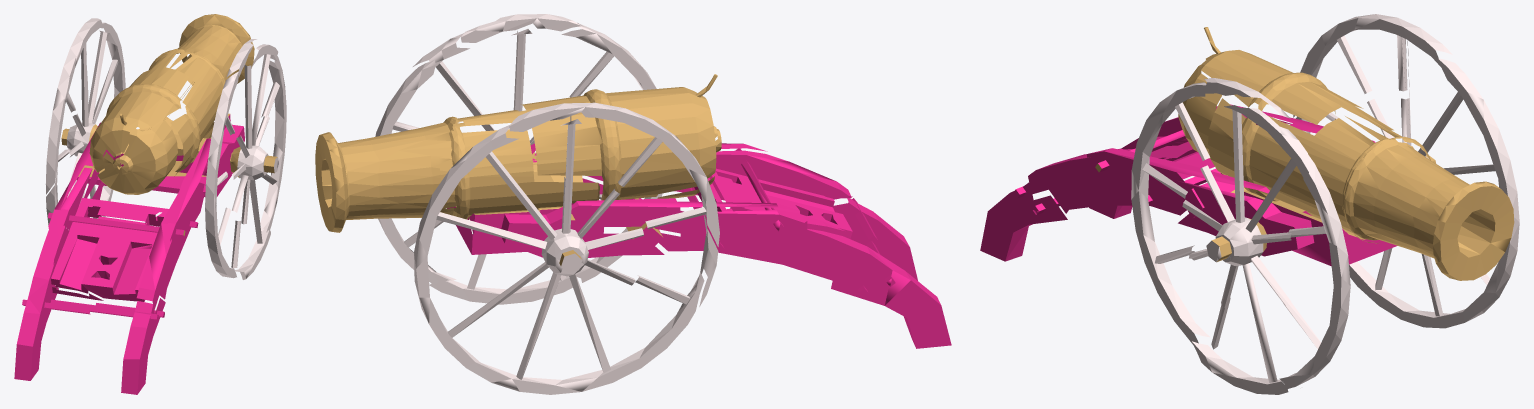
File: cannon-explosion.glb
The picture shows the model from 3 angles, left to right: view 1: azimuth 30°, elevation 25°; view 2: azimuth 150°, elevation 25°; view 3: azimuth 270°, elevation 25°; orthographic projection. The views are drawn at different scales.
Visible parts, largest first — view 1: cannon.010, cannon.004, cannon.005, cannon.006, cannon.011, cannon.039, cannon.054, cannon.022, cannon.015, cannon.003, cannon.026, cannon.018 (+26 smaller); view 2: cannon.004, cannon.011, cannon.043, cannon.009, cannon.039, cannon.042, cannon.003, cannon.010, cannon.018, cannon.056, cannon.050, cannon.026 (+18 smaller); view 3: cannon.011, cannon.006, cannon.043, cannon.004, cannon.054, cannon.015, cannon.026, cannon.007, cannon.022, cannon.003, cannon.036, cannon.018 (+16 smaller).
Part boxes in pixels (box(x1,y1,x2,y2)): cannon.010: box(51, 198, 168, 301); cannon.004: box(89, 49, 188, 172); cannon.005: box(97, 120, 177, 194); cannon.006: box(170, 52, 225, 176); cannon.011: box(163, 14, 254, 120); cannon.039: box(14, 230, 58, 380); cannon.054: box(205, 71, 238, 278); cannon.022: box(121, 298, 165, 394); cannon.015: box(167, 138, 210, 286); cannon.003: box(45, 18, 103, 194); cannon.026: box(260, 56, 286, 232); cannon.018: box(136, 193, 178, 309); cannon.004: box(463, 87, 717, 200); cannon.011: box(315, 116, 459, 232); cannon.043: box(414, 125, 704, 394); cannon.009: box(439, 123, 599, 219); cannon.039: box(807, 229, 951, 348); cannon.042: box(658, 201, 839, 281); cannon.003: box(509, 102, 719, 246); cannon.010: box(694, 168, 852, 238); cannon.018: box(716, 150, 851, 198); cannon.056: box(571, 198, 772, 233); cannon.050: box(501, 203, 664, 257); cannon.026: box(375, 60, 456, 284); cannon.011: box(1342, 138, 1514, 280); cannon.006: box(1208, 98, 1379, 243); cannon.043: box(1349, 58, 1519, 328); cannon.004: box(1201, 50, 1393, 130); cannon.054: box(1131, 82, 1209, 344); cannon.015: box(1069, 148, 1269, 215); cannon.026: box(1279, 154, 1350, 388); cannon.007: box(1215, 105, 1309, 265); cannon.022: box(980, 182, 1067, 261); cannon.003: box(1293, 14, 1452, 117); cannon.036: box(1174, 180, 1314, 256); cannon.018: box(1028, 148, 1134, 213).
Bounding box in the file's own units: 6.23 × 3.63 × 5.98.
